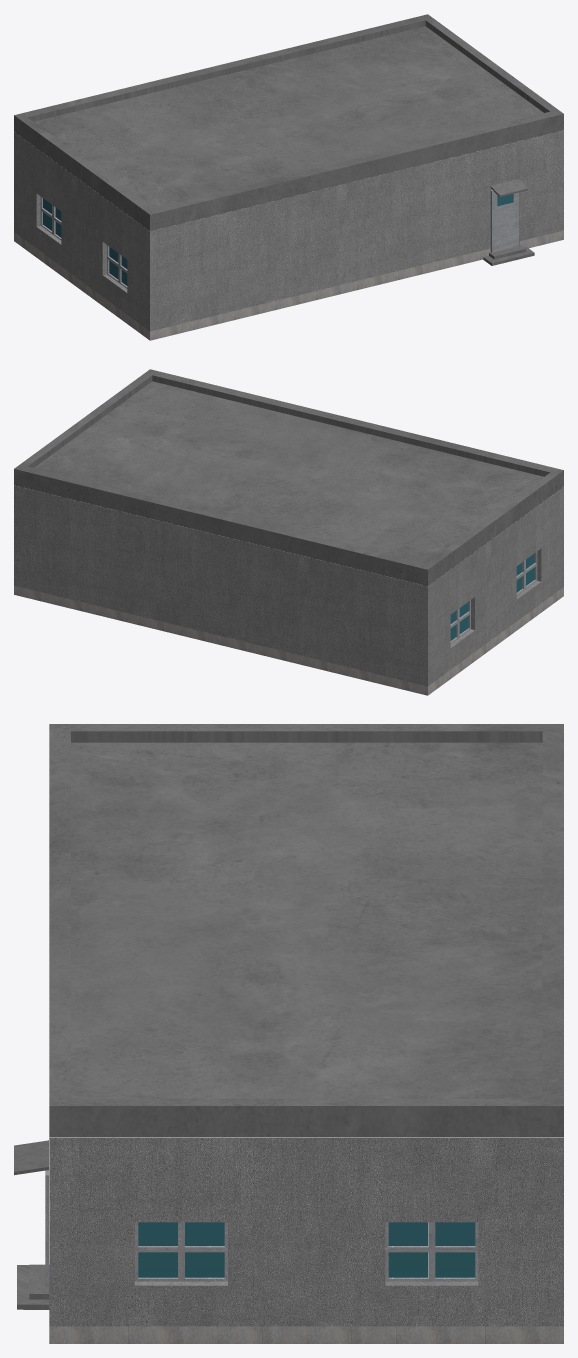
File: 电力系统.glb
The picture shows the model from 3 angles, top to bottom: view 1: azimuth 30°, elevation 25°; view 2: azimuth 150°, elevation 25°; view 3: azimuth 270°, elevation 25°; orthographic projection. The views are drawn at different scales.
Parts seen in each view (by area): view 1: 电力系统002, 电力系统003, 电力系统008, 电力系统006, 电力系统005; view 2: 电力系统002, 电力系统003, 电力系统008, 电力系统005, 电力系统006; view 3: 电力系统002, 电力系统003, 电力系统008, 电力系统005, 电力系统006.
Boxes of the visible parts, x1,y1,x2,y2 form: 电力系统002: [14, 14, 563, 265]; 电力系统003: [14, 130, 563, 331]; 电力系统008: [14, 230, 563, 340]; 电力系统006: [40, 190, 519, 288]; 电力系统005: [43, 194, 513, 285]; 电力系统002: [14, 369, 563, 586]; 电力系统003: [14, 485, 563, 686]; 电力系统008: [14, 585, 563, 695]; 电力系统005: [450, 553, 534, 640]; 电力系统006: [450, 551, 537, 643]; 电力系统002: [14, 724, 563, 1309]; 电力系统003: [49, 1137, 563, 1326]; 电力系统008: [49, 1326, 563, 1343]; 电力系统005: [138, 1222, 475, 1277]; 电力系统006: [45, 1170, 478, 1292].
Bounding box in the file's own units: 13.14 × 3.83 × 8.
5 materials, 5 textured.
